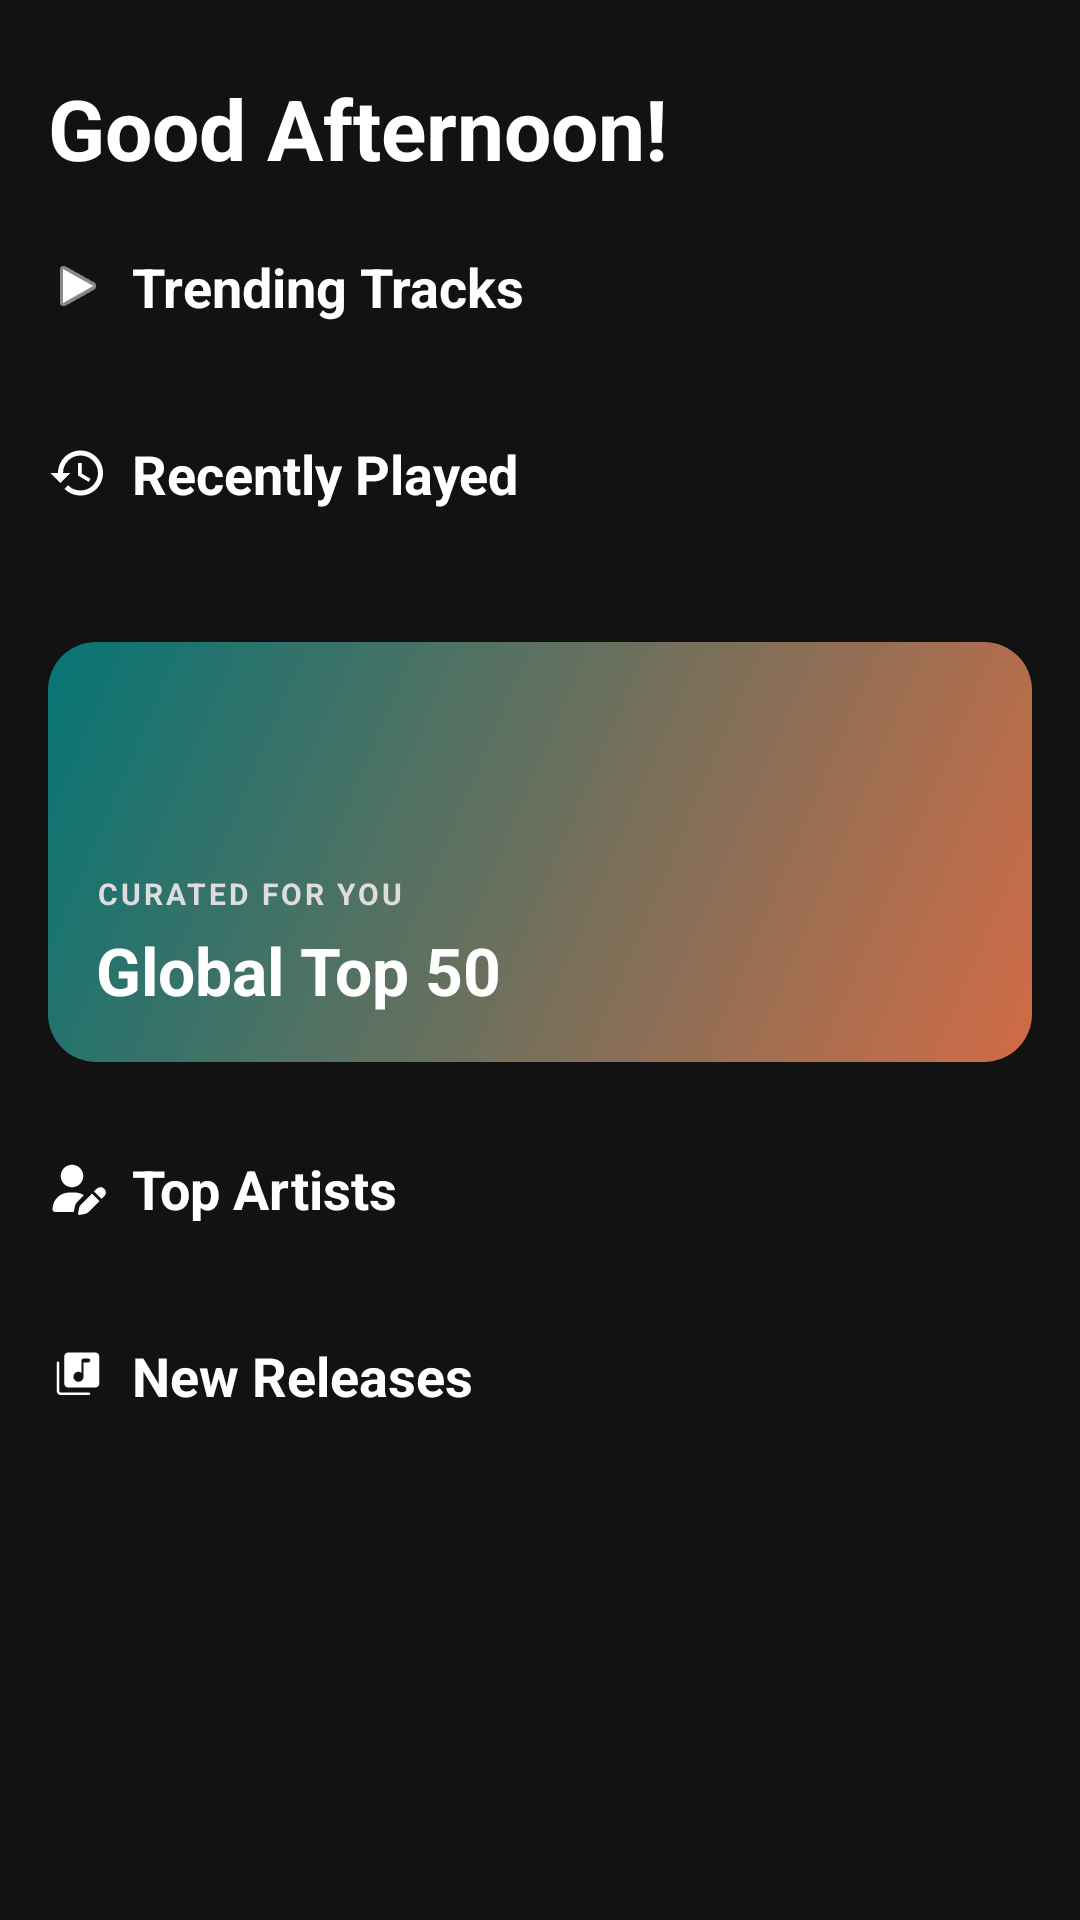

Icon bounding boxes for this 1080px×1920px phone screenshot, format (x1, y1, x2, y2):
music library: (56, 1352, 100, 1395)
user edit: (52, 1164, 106, 1215)
